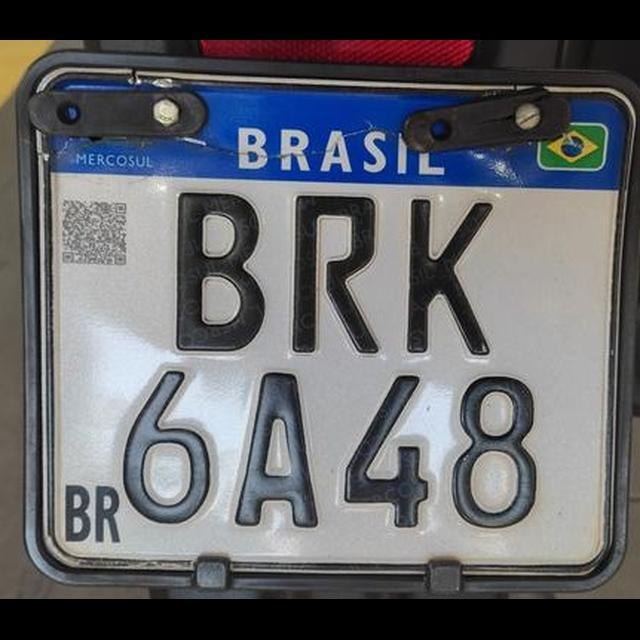Caractere: (119, 365, 221, 533), (285, 191, 385, 359), (172, 186, 270, 354), (338, 371, 437, 533), (230, 367, 324, 531), (448, 372, 542, 536), (406, 193, 494, 359)
Placa: (17, 50, 635, 592)
